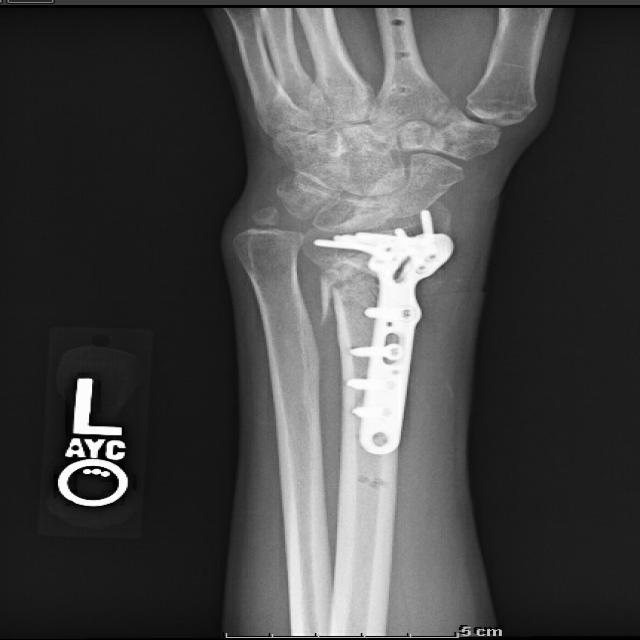x-ray: (316, 209, 471, 460)
